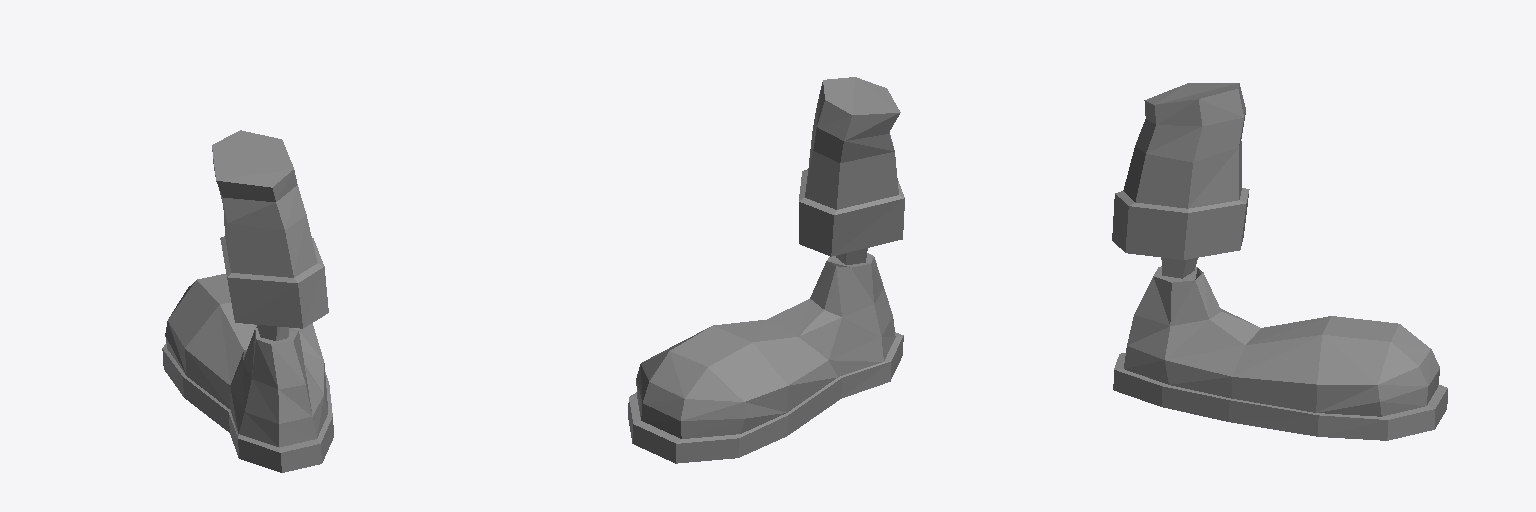
The model's file is PiernaDer.obj.
3 renders of one model, left to right at view 1: azimuth 30°, elevation 25°; view 2: azimuth 150°, elevation 25°; view 3: azimuth 270°, elevation 25°, orthographic.
Parts seen in each view (by area): view 1: PiernaDer; view 2: PiernaDer; view 3: PiernaDer.
Boxes of the visible parts, box(x1,y1,x2,y2) form: PiernaDer: box(162, 130, 333, 472); PiernaDer: box(628, 77, 904, 463); PiernaDer: box(1112, 83, 1447, 440).
Size of the model in its own units: 8.98 by 14.89 by 15.12.